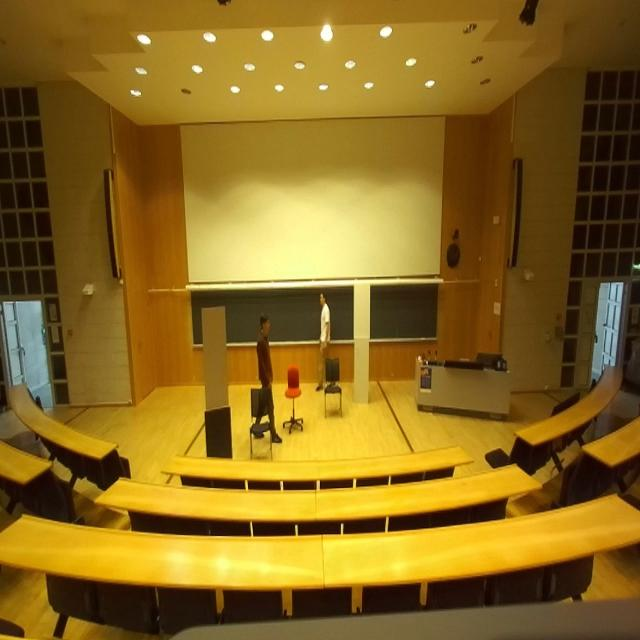person: (254, 313, 282, 443), (316, 292, 336, 392)
